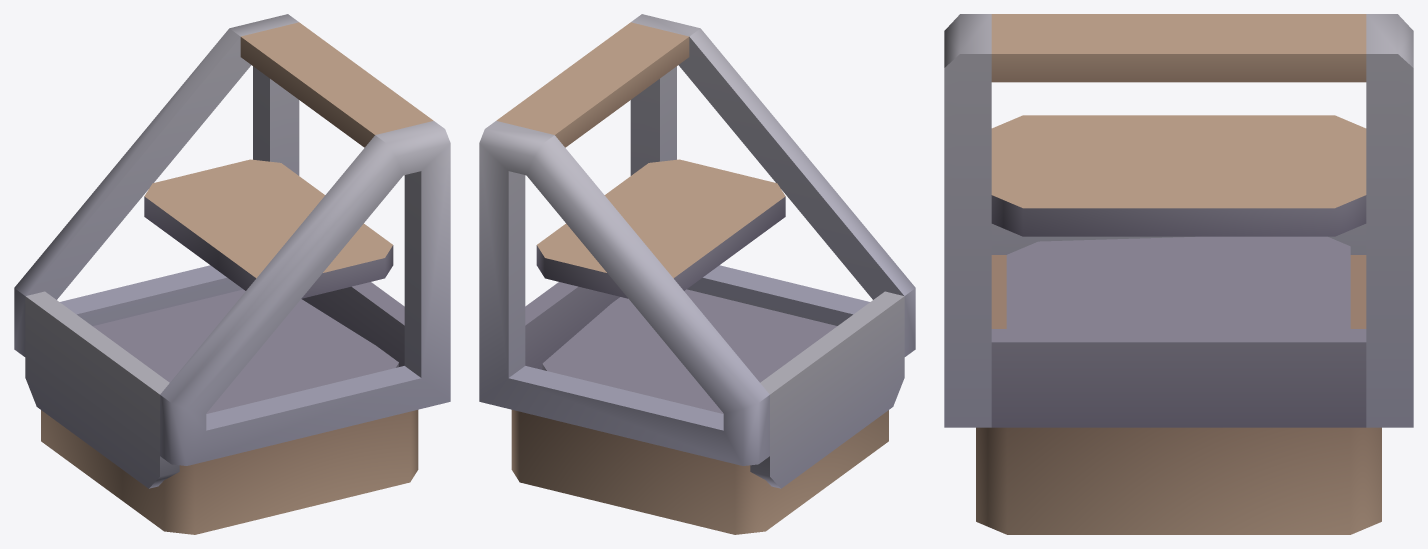
File: counter-display-narrow.glb
3 renders of one model, left to right at view 1: azimuth 30°, elevation 25°; view 2: azimuth 150°, elevation 25°; view 3: azimuth 270°, elevation 25°, orthographic. The views are drawn at different scales.
Visible parts, largest first — view 1: counter-display-narrow; view 2: counter-display-narrow; view 3: counter-display-narrow.
Boxes of the visible parts, <box> form: counter-display-narrow: <box>14,14,450,534</box>; counter-display-narrow: <box>479,14,915,534</box>; counter-display-narrow: <box>944,14,1413,534</box>.
Bounding box in the file's own units: 0.7 × 0.856 × 0.746.
